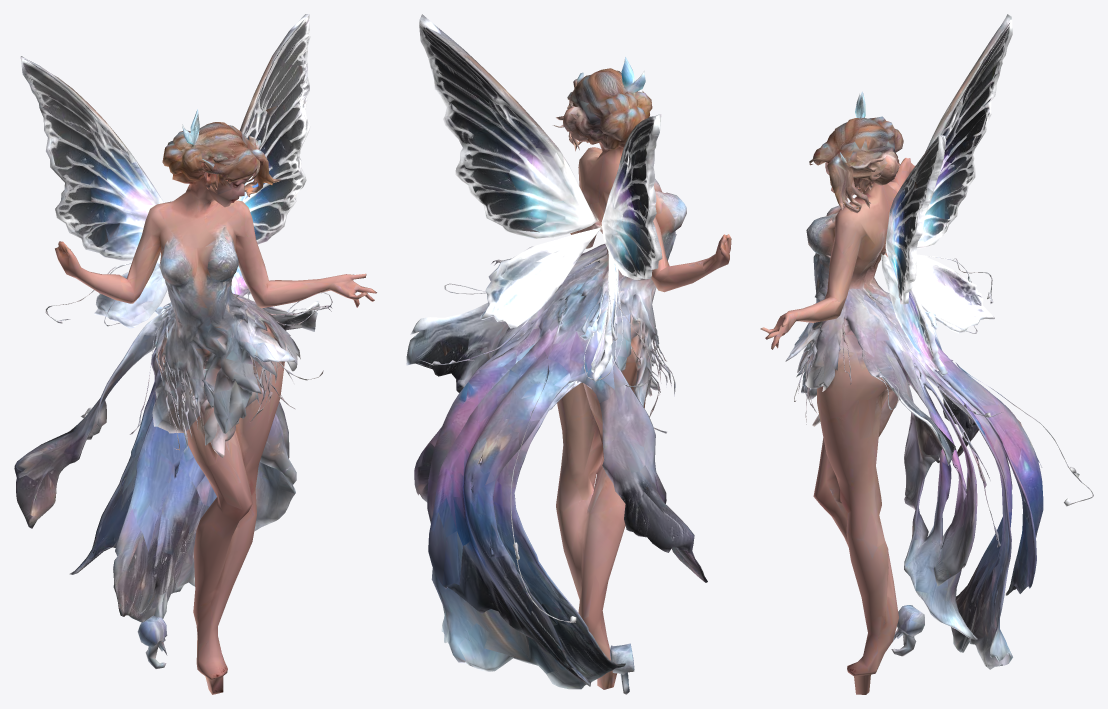
Rendered from starlit-fairy.glb.
The picture shows the model from 3 angles, left to right: view 1: azimuth 30°, elevation 25°; view 2: azimuth 150°, elevation 25°; view 3: azimuth 270°, elevation 25°; orthographic projection. The views are drawn at different scales.
Parts seen in each view (by area): view 1: mesh_node; view 2: mesh_node; view 3: mesh_node.
Boxes of the visible parts, x1,y1,x2,y2 form: mesh_node: (14,14,376,694); mesh_node: (406,14,731,694); mesh_node: (760,14,1093,694).
Bounding box in the file's own units: 0.9191 × 1.9 × 0.9196.
Materials: 1 (1 with a texture image).
